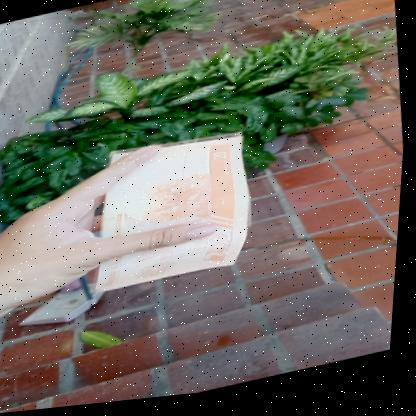twenty-back-vef: (82, 127, 263, 300)
